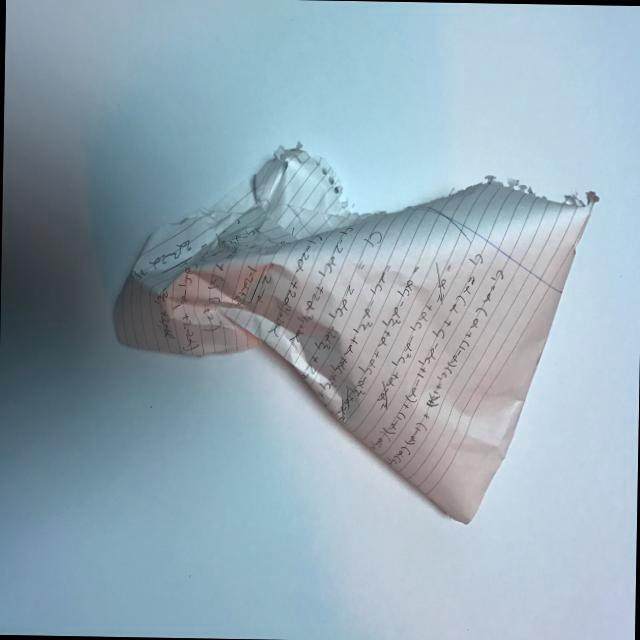paper: (89, 129, 616, 556)
